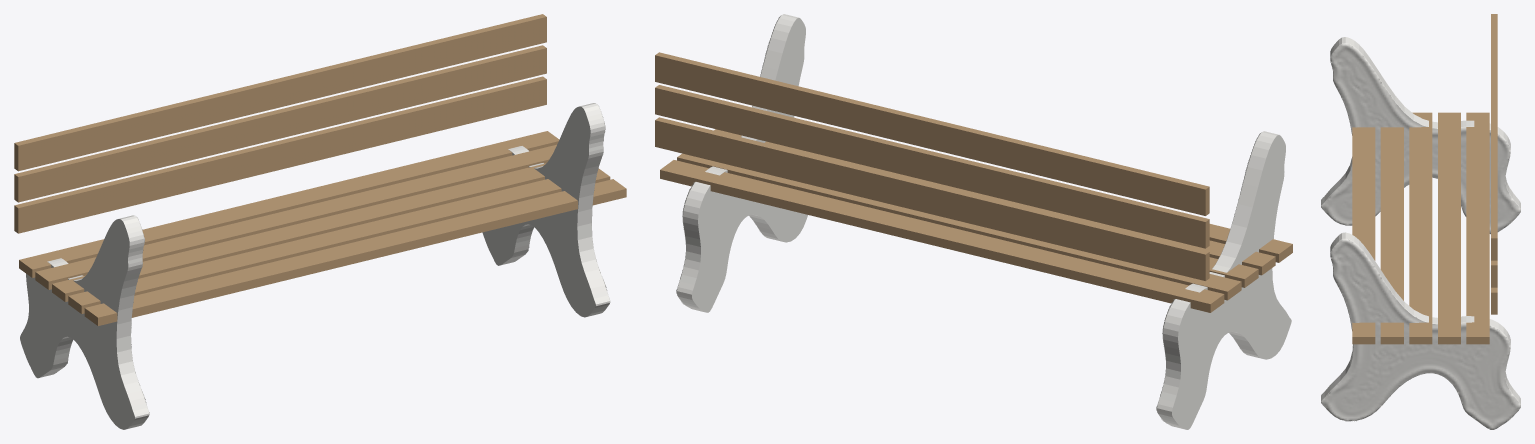
The model's file is terilgan.glb.
3 renders of one model, left to right at view 1: azimuth 30°, elevation 25°; view 2: azimuth 150°, elevation 25°; view 3: azimuth 270°, elevation 25°, orthographic. The views are drawn at different scales.
Parts seen in each view (by area): view 1: Orqa1, Orqa0, Orqa2, t-1, Sed0, t1, Sed4, Sed3, Sed1, Sed2; view 2: Orqa0, Orqa2, Orqa1, t-1, Sed4, t1, Sed3, Sed1, Sed0, Sed2; view 3: t1, t-1, Sed4, Sed3, Sed2, Sed1, Sed0, Orqa2.
Boxes of the visible parts, x1,y1,x2,y2 form: Orqa1: (14,45,546,202); Orqa0: (14,76,546,233); Orqa2: (14,14,546,171); t-1: (20,215,149,429); Sed0: (84,179,626,325); t1: (482,103,610,317); Sed4: (19,131,559,277); Sed3: (35,144,556,289); Sed1: (68,168,610,313); Sed2: (52,163,545,301); Orqa0: (655,117,1209,280); Orqa2: (655,52,1209,215); Orqa1: (655,85,1209,248); t-1: (1156,131,1291,429); Sed4: (660,160,1224,312); t1: (676,14,807,312); Sed3: (677,153,1241,300); Sed1: (714,129,1275,275); Sed0: (1209,224,1292,262); Sed2: (1209,257,1258,287); t1: (1321,232,1520,429); t-1: (1321,37,1520,234); Sed4: (1466,112,1489,344); Sed3: (1438,112,1460,344); Sed2: (1409,112,1432,344); Sed1: (1380,127,1403,344); Sed0: (1352,127,1375,344); Orqa2: (1491,14,1497,260).
Size of the model in its own units: 1.95 by 0.836 by 0.7347.
